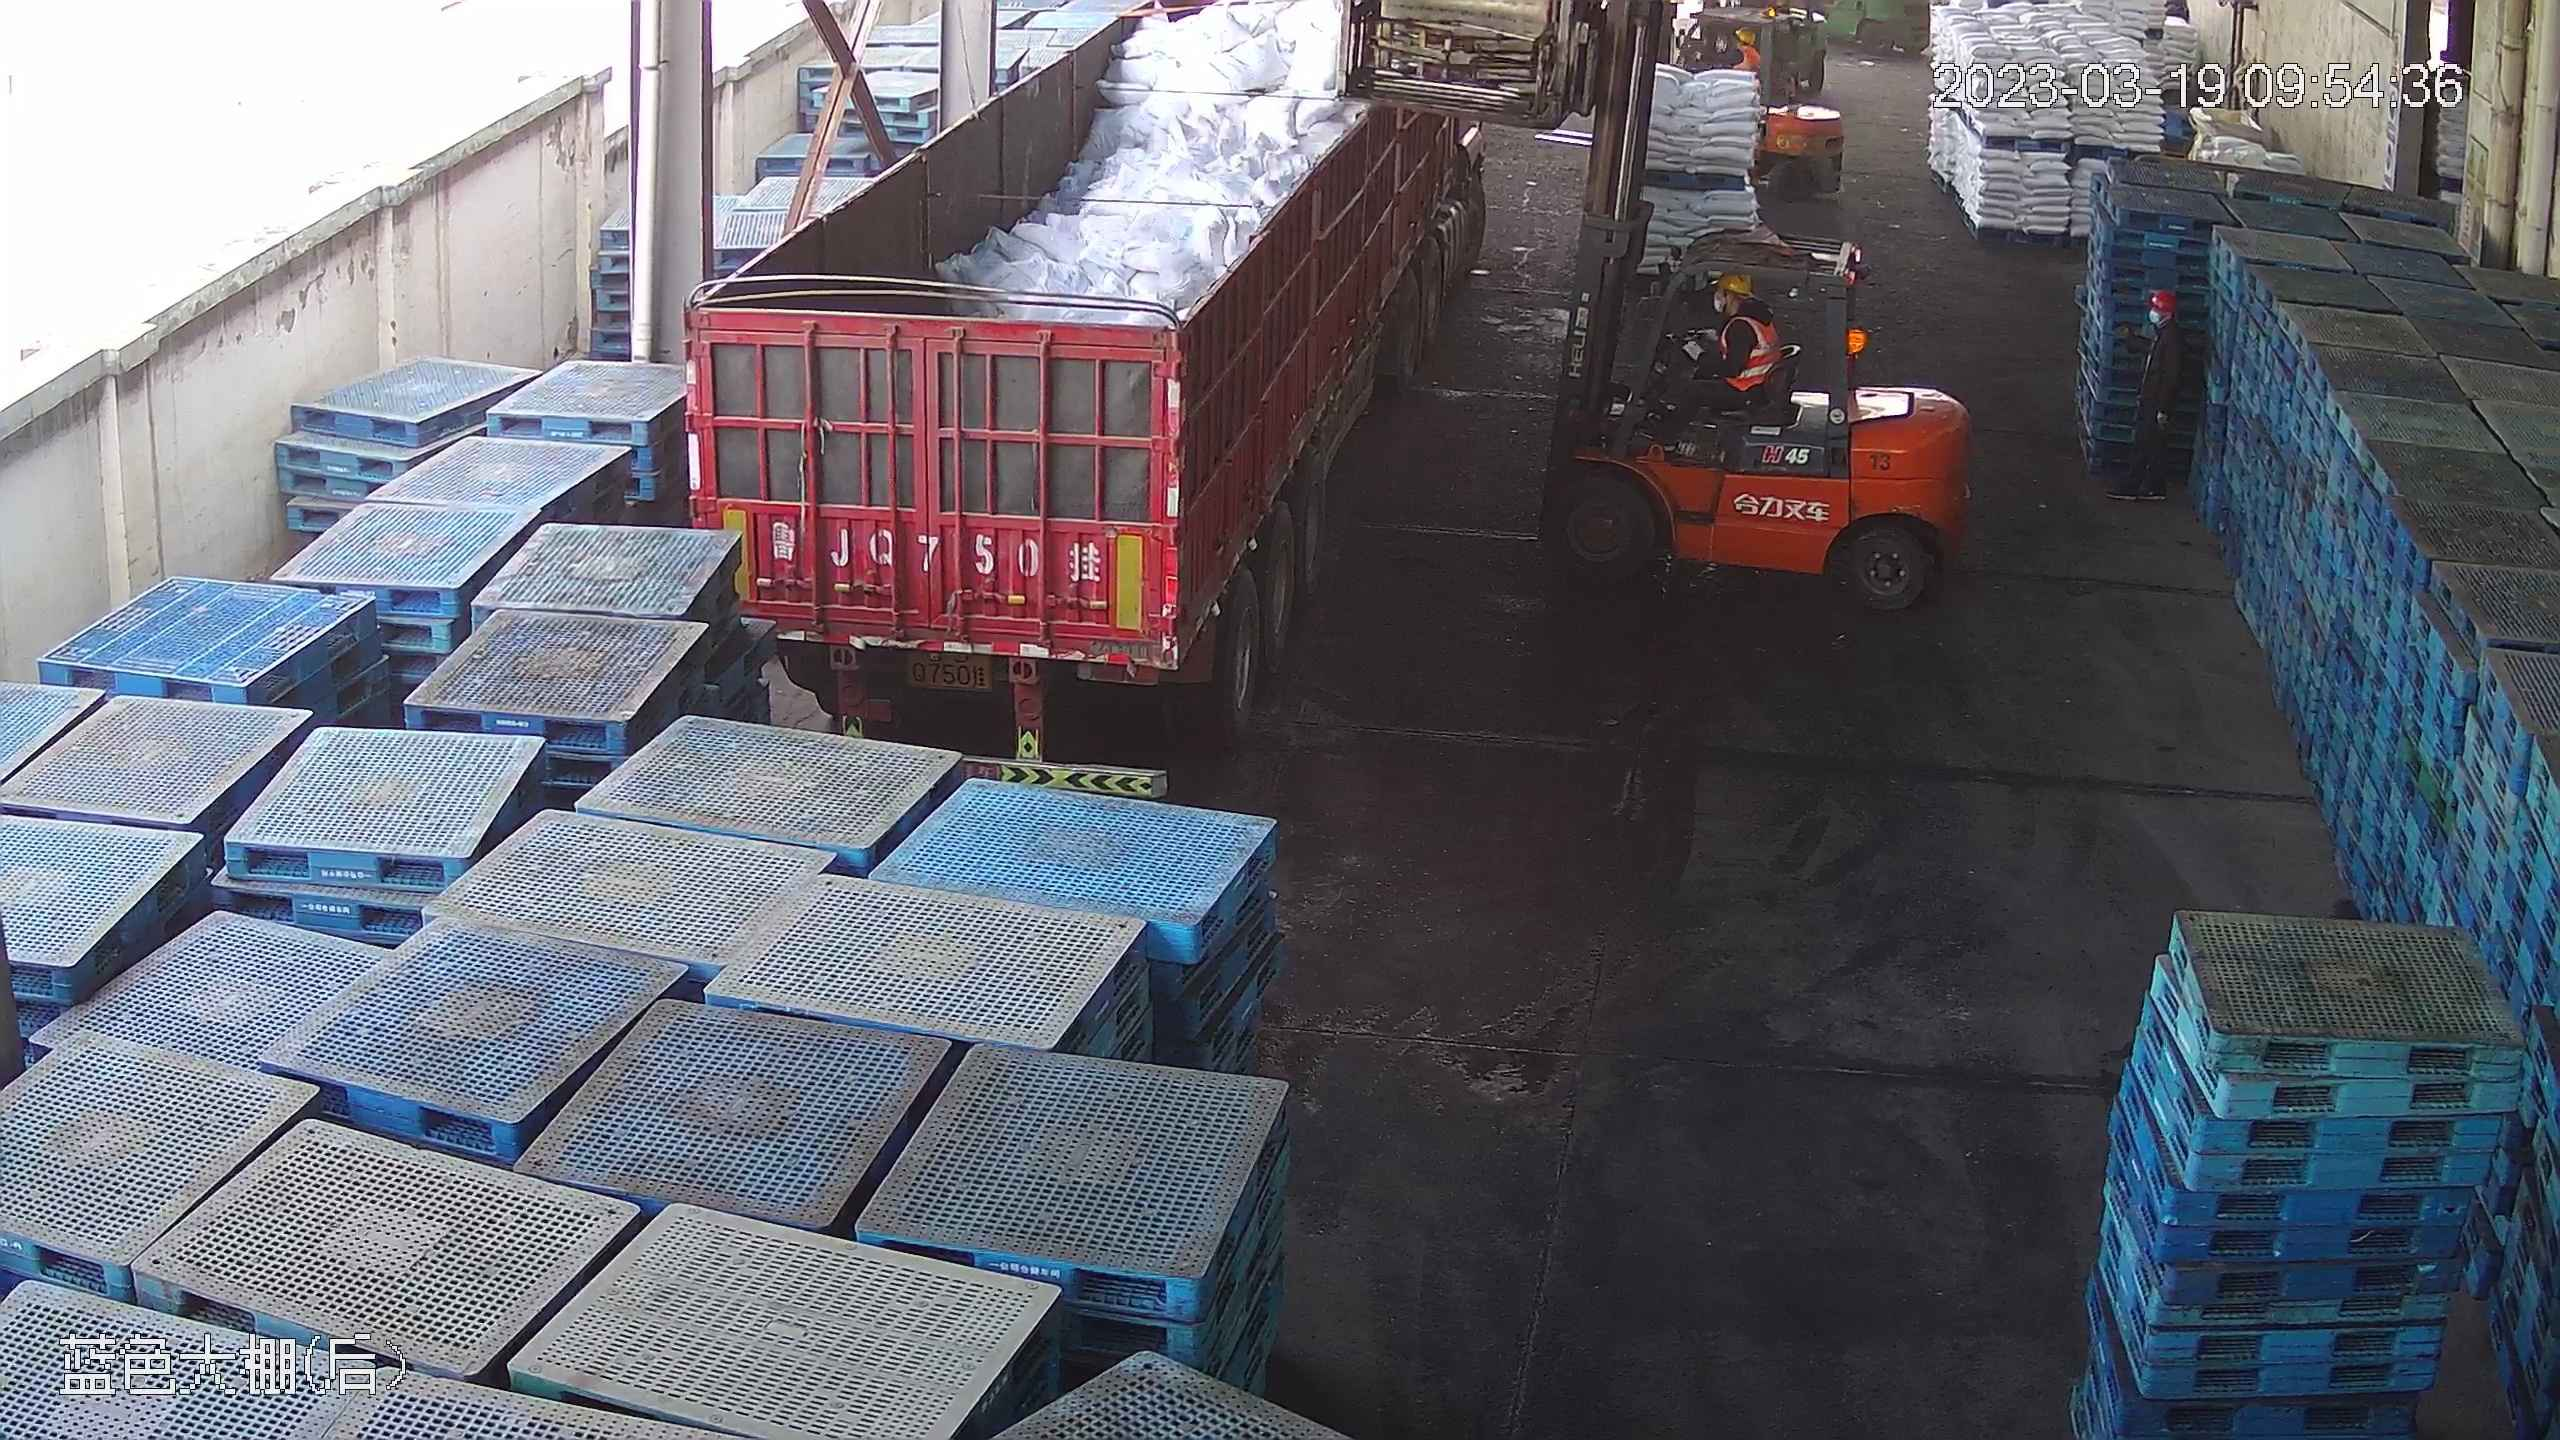head: (1700, 273, 1774, 354), (2143, 285, 2190, 357)
helmet: (1715, 271, 1752, 294), (2149, 286, 2179, 312)
people: (1652, 270, 1783, 443), (2139, 284, 2194, 511)
truck: (696, 7, 1522, 787)
